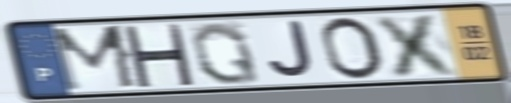H: (120, 24, 197, 88)
J: (265, 18, 318, 81)
M: (48, 22, 142, 94)
O: (318, 15, 388, 82)
Q: (188, 19, 264, 87)
X: (370, 11, 465, 79)
